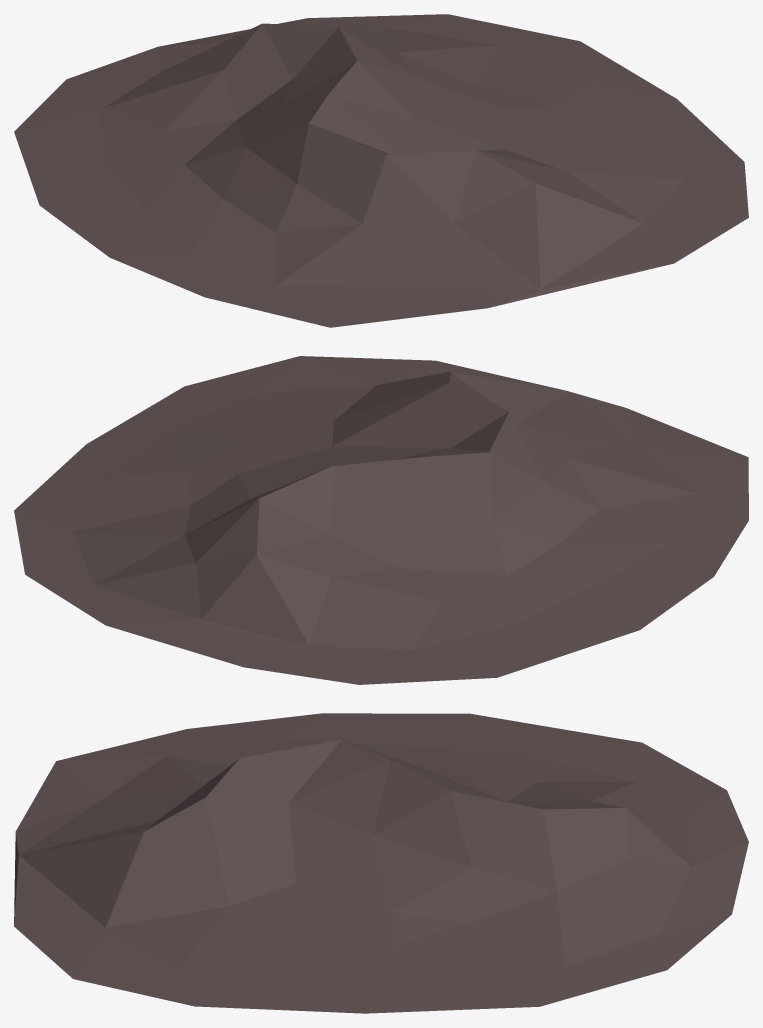
Rendered from TB_D_Env_DuneA_C.FBX.
3 renders of one model, top to bottom at view 1: azimuth 30°, elevation 25°; view 2: azimuth 150°, elevation 25°; view 3: azimuth 270°, elevation 25°, orthographic. The views are drawn at different scales.
Visible parts, largest first — view 1: TB_D_Env_DuneA_C; view 2: TB_D_Env_DuneA_C; view 3: TB_D_Env_DuneA_C.
Boxes of the visible parts, <box> form: TB_D_Env_DuneA_C: <box>14,14,748,327</box>; TB_D_Env_DuneA_C: <box>14,356,748,684</box>; TB_D_Env_DuneA_C: <box>14,713,748,1013</box>.
Bounding box in the file's own units: 15.41 × 1.96 × 15.93.
